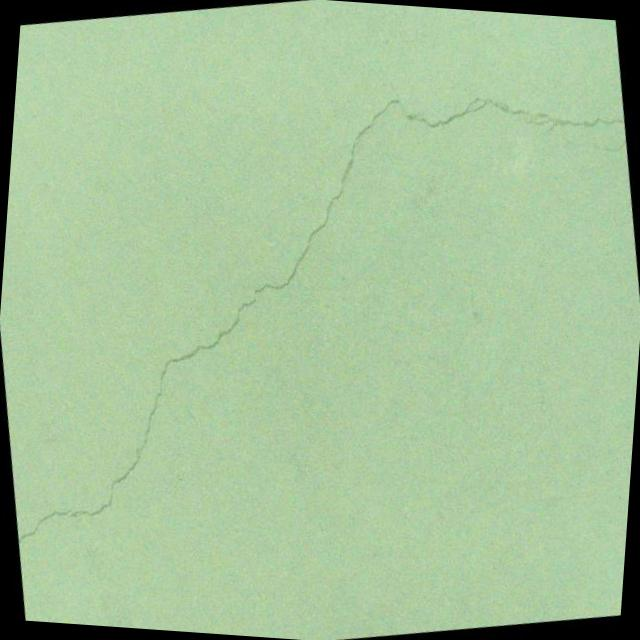crack: (0, 36, 640, 585)
